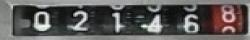digits: (67, 9, 89, 31), (32, 10, 52, 31), (140, 13, 162, 32), (182, 13, 200, 32), (110, 10, 125, 32), (220, 4, 236, 22)
